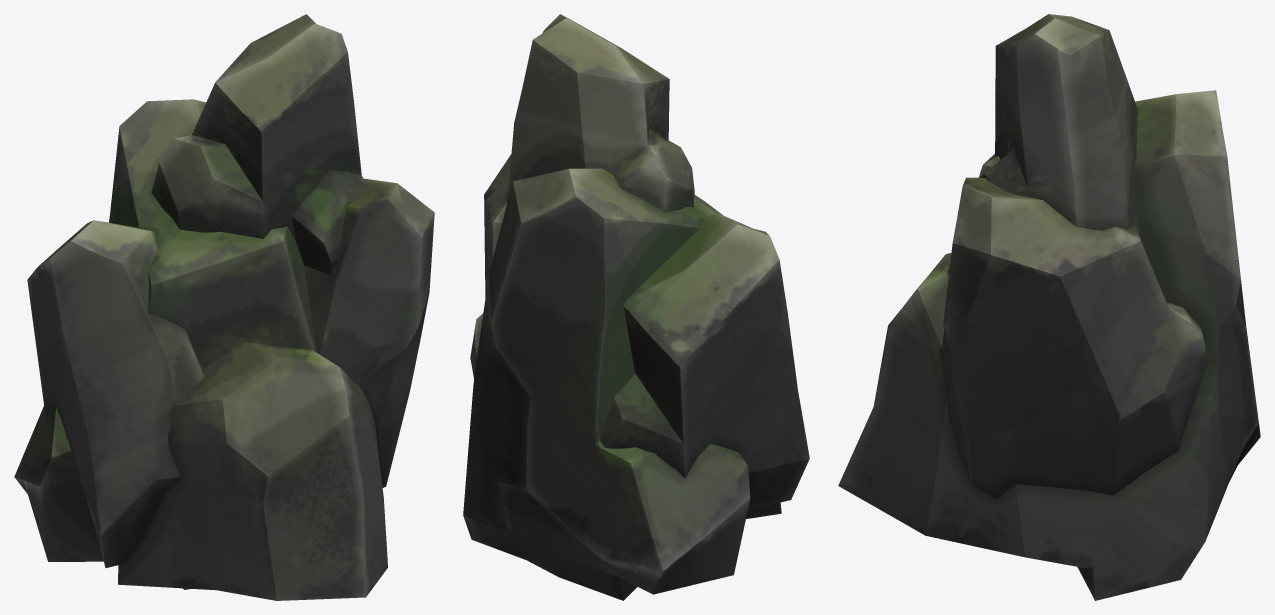
Rendered from rock_2.glb.
The picture shows the model from 3 angles, left to right: view 1: azimuth 30°, elevation 25°; view 2: azimuth 150°, elevation 25°; view 3: azimuth 270°, elevation 25°; orthographic projection. The views are drawn at different scales.
Visible parts, largest first — view 1: Rock_3; view 2: Rock_3; view 3: Rock_3.
Boxes of the visible parts, <box> form: Rock_3: <box>14,14,434,600</box>; Rock_3: <box>463,14,809,600</box>; Rock_3: <box>838,14,1260,600</box>.
Size of the model in its own units: 0.8436 by 1.31 by 0.8972.
1 material, 1 textured.
